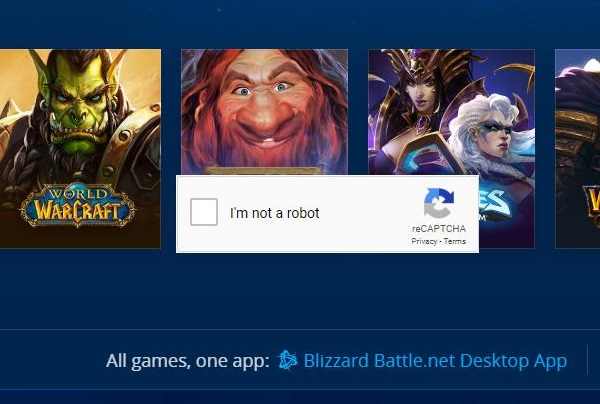captcha: (190, 197, 323, 226)
